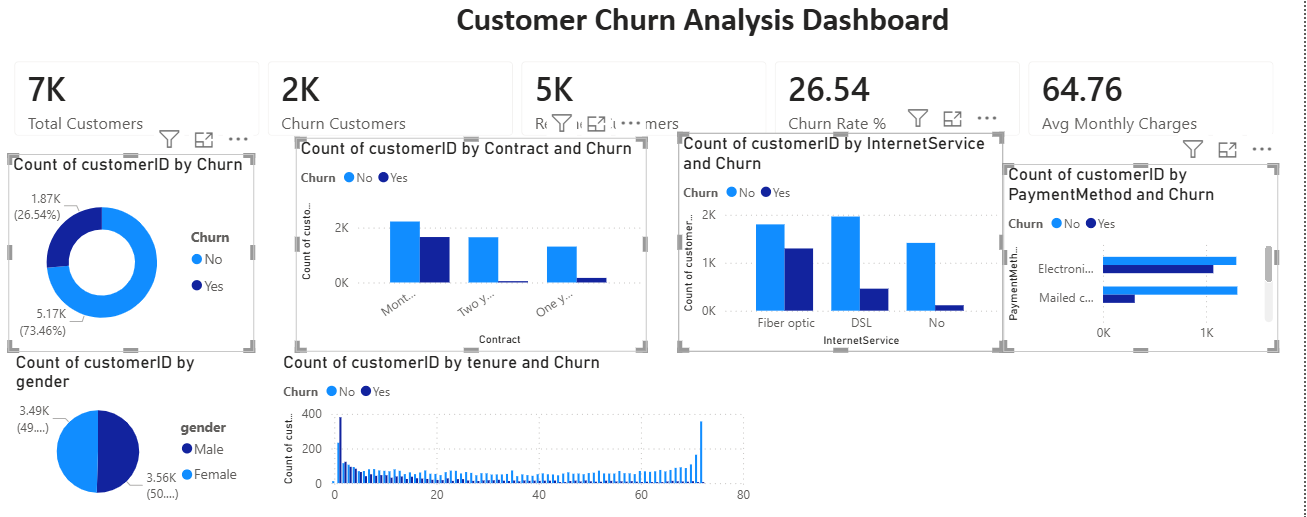

The dashboard page shown, as its layout file describes it:
{"tool":"powerbi","page":{"name":"Page 1","canvas":[1280,720],"ordinal":0},"visuals":[{"type":"cardVisual","fields":{"Data":["cleaned_churn.Total Customers","cleaned_churn.Churn Customers","cleaned_churn.Retained Customers","cleaned_churn.Churn Rate %","cleaned_churn.Avg Monthly Charges"]},"box":[0,59,1270.7,107],"z":0},{"type":"donutChart","fields":{"Category":["cleaned_churn.Churn"],"Y":["CountNonNull(cleaned_churn.customerID)"]},"box":[11,166,241.5,193.5],"z":1},{"type":"textbox","box":[397.9,9.6,585.9,59],"z":2},{"type":"clusteredColumnChart","fields":{"Category":["cleaned_churn.Contract"],"Y":["CountNonNull(cleaned_churn.customerID)"],"Series":["cleaned_churn.Churn"]},"box":[292.3,150.9,343.1,208.6],"z":3},{"type":"clusteredColumnChart","fields":{"Category":["cleaned_churn.InternetService"],"Y":["CountNonNull(cleaned_churn.customerID)"],"Series":["cleaned_churn.Churn"]},"box":[666.9,145.5,317,214.1],"z":4},{"type":"clusteredBarChart","fields":{"Category":["cleaned_churn.PaymentMethod"],"Y":["CountNonNull(cleaned_churn.customerID)"],"Series":["cleaned_churn.Churn"]},"box":[983.9,175.6,269,183.9],"z":5},{"type":"pieChart","fields":{"Category":["cleaned_churn.gender"],"Y":["CountNonNull(cleaned_churn.customerID)"]},"box":[13.7,359.5,236,157.8],"z":6},{"type":"listSlicer","fields":{"Values":["cleaned_churn.gender"]},"box":[132.1,546.6,236,157.7],"z":7},{"type":"listSlicer","fields":{"Values":["cleaned_churn.Contract"]},"box":[508.7,546.6,225,157.7],"z":8},{"type":"listSlicer","fields":{"Values":["cleaned_churn.InternetService"]},"box":[868.2,562.5,199.3,157.7],"z":9},{"type":"clusteredColumnChart","fields":{"Category":["cleaned_churn.tenure"],"Y":["CountNonNull(cleaned_churn.customerID)"],"Series":["cleaned_churn.Churn"]},"box":[275.1,359.5,467.1,159],"z":10}]}

Visuals, with their boxes on the page's 1280x720 design canvas (x1, y1, x2, y2). These are canvas units, not pixel positions in the 1307x517 screenshot, which may show the page scaled, cropped or inside an application window:
cardVisual - cleaned_churn.Total Customers x cleaned_churn.Churn Customers: <bbox>0, 59, 1271, 166</bbox>
donutChart - cleaned_churn.Churn x CountNonNull(cleaned_churn.customerID): <bbox>11, 166, 252, 360</bbox>
textbox: <bbox>398, 10, 984, 69</bbox>
clusteredColumnChart - cleaned_churn.Contract x CountNonNull(cleaned_churn.customerID): <bbox>292, 151, 635, 360</bbox>
clusteredColumnChart - cleaned_churn.InternetService x CountNonNull(cleaned_churn.customerID): <bbox>667, 146, 984, 360</bbox>
clusteredBarChart - cleaned_churn.PaymentMethod x CountNonNull(cleaned_churn.customerID): <bbox>984, 176, 1253, 360</bbox>
pieChart - cleaned_churn.gender x CountNonNull(cleaned_churn.customerID): <bbox>14, 360, 250, 517</bbox>
listSlicer - cleaned_churn.gender: <bbox>132, 547, 368, 704</bbox>
listSlicer - cleaned_churn.Contract: <bbox>509, 547, 734, 704</bbox>
listSlicer - cleaned_churn.InternetService: <bbox>868, 562, 1068, 720</bbox>
clusteredColumnChart - cleaned_churn.tenure x CountNonNull(cleaned_churn.customerID): <bbox>275, 360, 742, 518</bbox>
